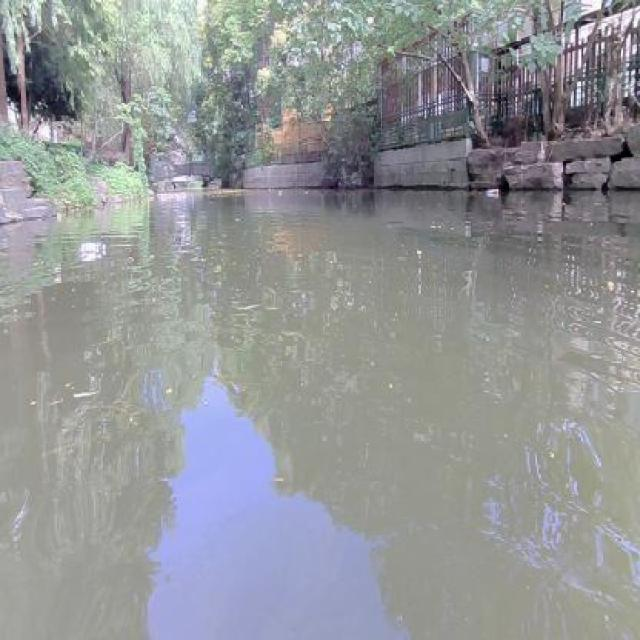Bottle: (79, 240, 110, 263)
